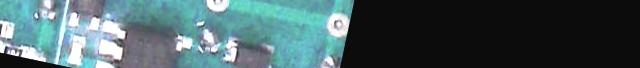chip-capacitor: (66, 34, 86, 65)
chip-resistor: (0, 39, 34, 59)
diode: (222, 35, 274, 68)
ic: (91, 15, 197, 68)
